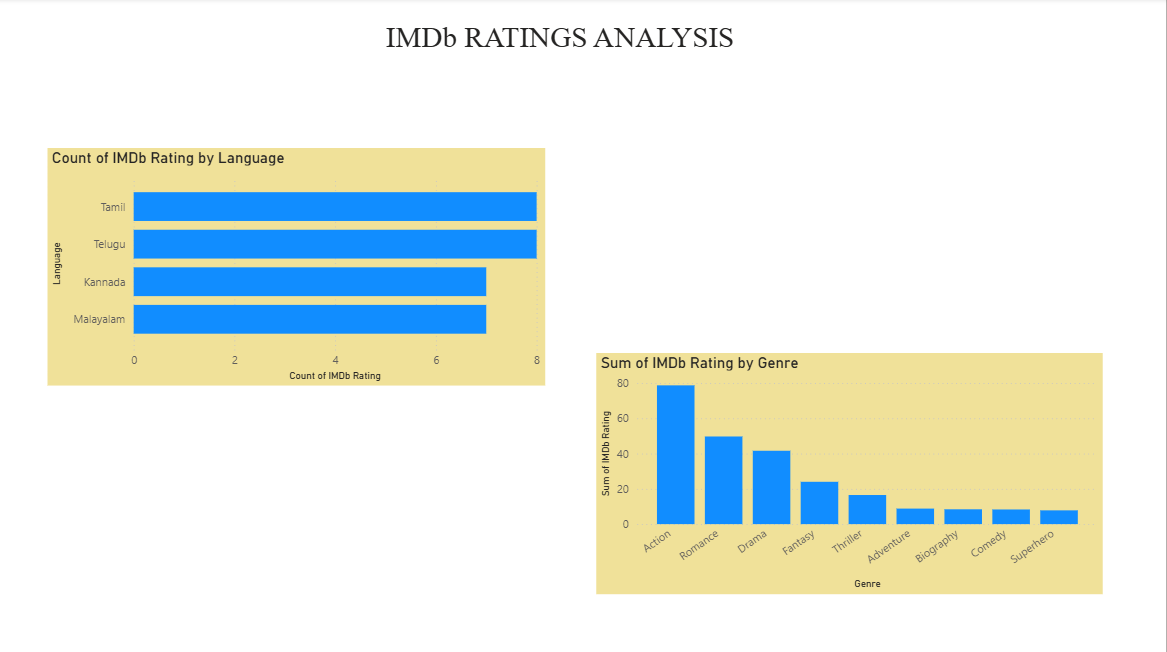

The dashboard page shown, as its layout file describes it:
{"tool":"powerbi","page":{"name":"Page 2","canvas":[1280,720],"ordinal":1},"visuals":[{"type":"textbox","box":[418.5,19.2,419.9,65.9],"z":0},{"type":"clusteredBarChart","fields":{"Y":["CountNonNull(Table 1 (South Indian Movies).IMDb Rating)"],"Category":["Table 1 (South Indian Movies).Language"]},"box":[52.1,164.7,546.1,260.7],"z":1000},{"type":"clusteredColumnChart","fields":{"Category":["Table 1 (South Indian Movies).Genre"],"Y":["Sum(Table 1 (South Indian Movies).IMDb Rating)"]},"box":[654.5,389.7,555.7,264.8],"z":2000}]}

Visuals, with their boxes in screenshot pixels (x1, y1, x2, y2), scaled from the page's 1280x720 canvas onto the 1167x652 screenshot:
textbox: <region>382, 17, 764, 77</region>
clusteredBarChart - CountNonNull(Table 1 (South Indian Movies).IMDb Rating) x Table 1 (South Indian Movies).Language: <region>48, 149, 545, 385</region>
clusteredColumnChart - Table 1 (South Indian Movies).Genre x Sum(Table 1 (South Indian Movies).IMDb Rating): <region>597, 353, 1103, 593</region>
